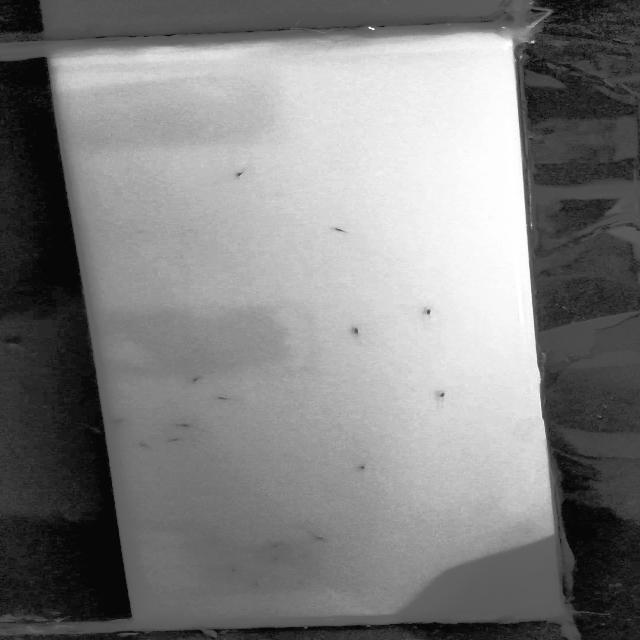shrimp: (306, 529, 332, 546), (230, 161, 252, 180), (257, 540, 287, 552), (319, 223, 350, 234), (191, 369, 208, 388), (417, 304, 437, 319), (109, 415, 132, 428), (210, 393, 237, 404), (352, 462, 373, 474), (226, 562, 244, 576), (137, 440, 157, 452), (250, 578, 267, 591), (349, 324, 367, 336), (434, 390, 452, 402), (263, 554, 281, 566), (166, 435, 185, 445), (178, 423, 200, 431)
